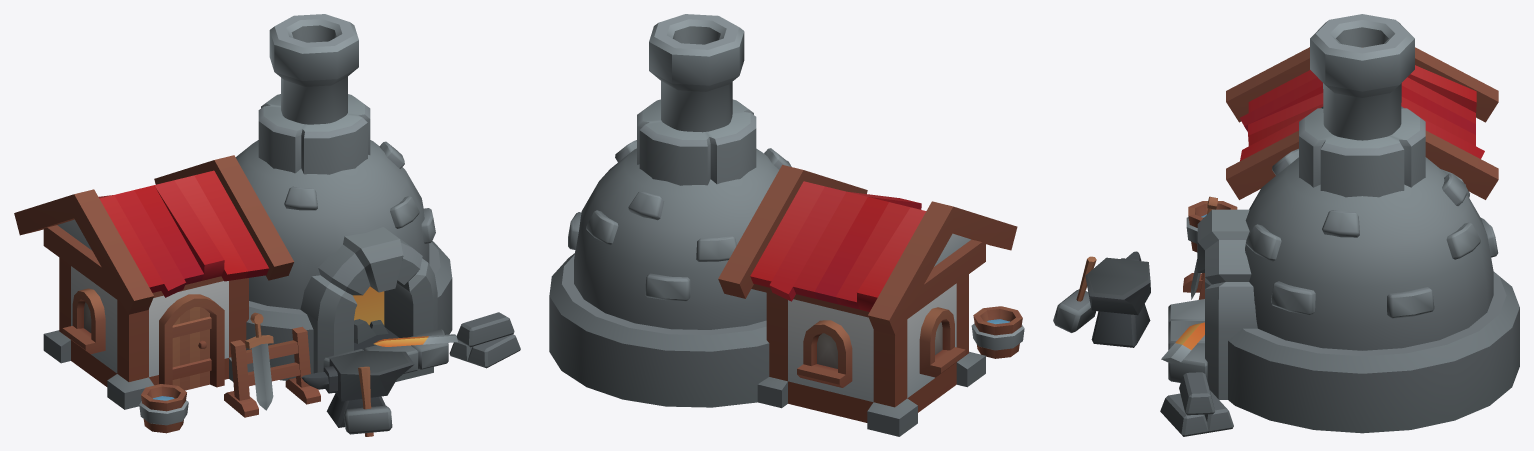
File: H_blacksmith_red.glb
3 renders of one model, left to right at view 1: azimuth 30°, elevation 25°; view 2: azimuth 150°, elevation 25°; view 3: azimuth 270°, elevation 25°, orthographic. The views are drawn at different scales.
Visible parts, largest first — view 1: building_blacksmith_red; view 2: building_blacksmith_red; view 3: building_blacksmith_red.
Part boxes in pixels (x1,y1,x2,y2): building_blacksmith_red: [14, 14, 520, 436]; building_blacksmith_red: [549, 14, 1024, 436]; building_blacksmith_red: [1053, 14, 1519, 436].
Bounding box in the file's own units: 1.29 × 0.9852 × 1.25.
